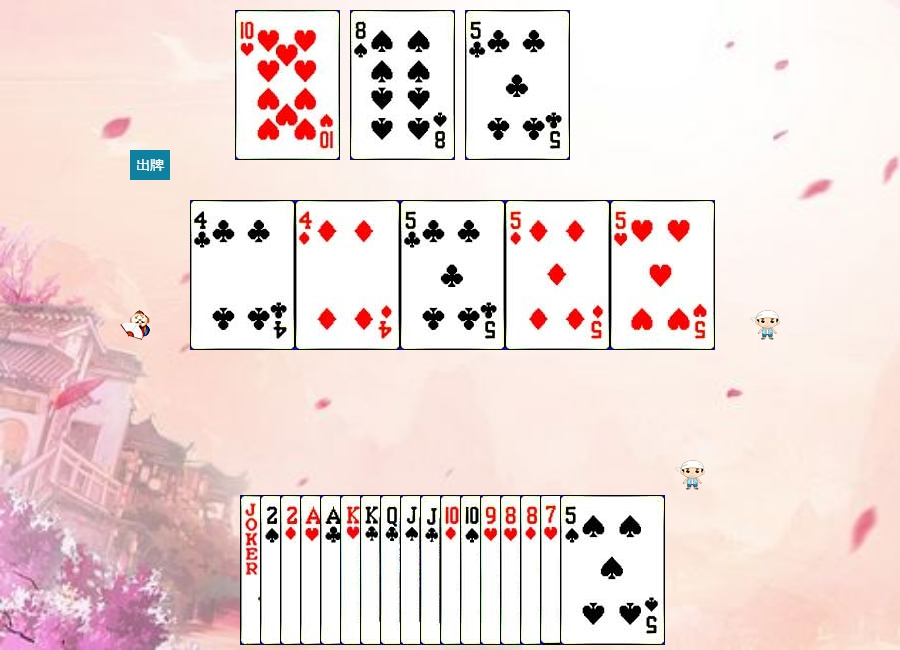10~1: (440, 495, 545, 645)
10~3: (235, 10, 340, 160)
10~4: (460, 495, 565, 645)
11~2: (420, 495, 525, 645)
11~4: (400, 495, 505, 645)
12~2: (380, 495, 485, 645)
13~2: (360, 495, 465, 645)
13~3: (340, 495, 445, 645)
14~2: (320, 495, 425, 645)
14~3: (300, 495, 405, 645)
15~1: (280, 495, 385, 645)
15~4: (260, 495, 365, 645)
18~4: (240, 495, 345, 645)
4~1: (295, 200, 400, 350)
4~2: (190, 200, 295, 350)
5~1: (505, 200, 610, 350)
5~2: (465, 10, 570, 160), (400, 200, 505, 350)
5~3: (610, 200, 715, 350)
5~4: (560, 495, 665, 645)
7~3: (540, 495, 645, 645)
8~1: (520, 495, 625, 645)
8~3: (500, 495, 605, 645)
8~4: (350, 10, 455, 160)
9~3: (480, 495, 585, 645)
